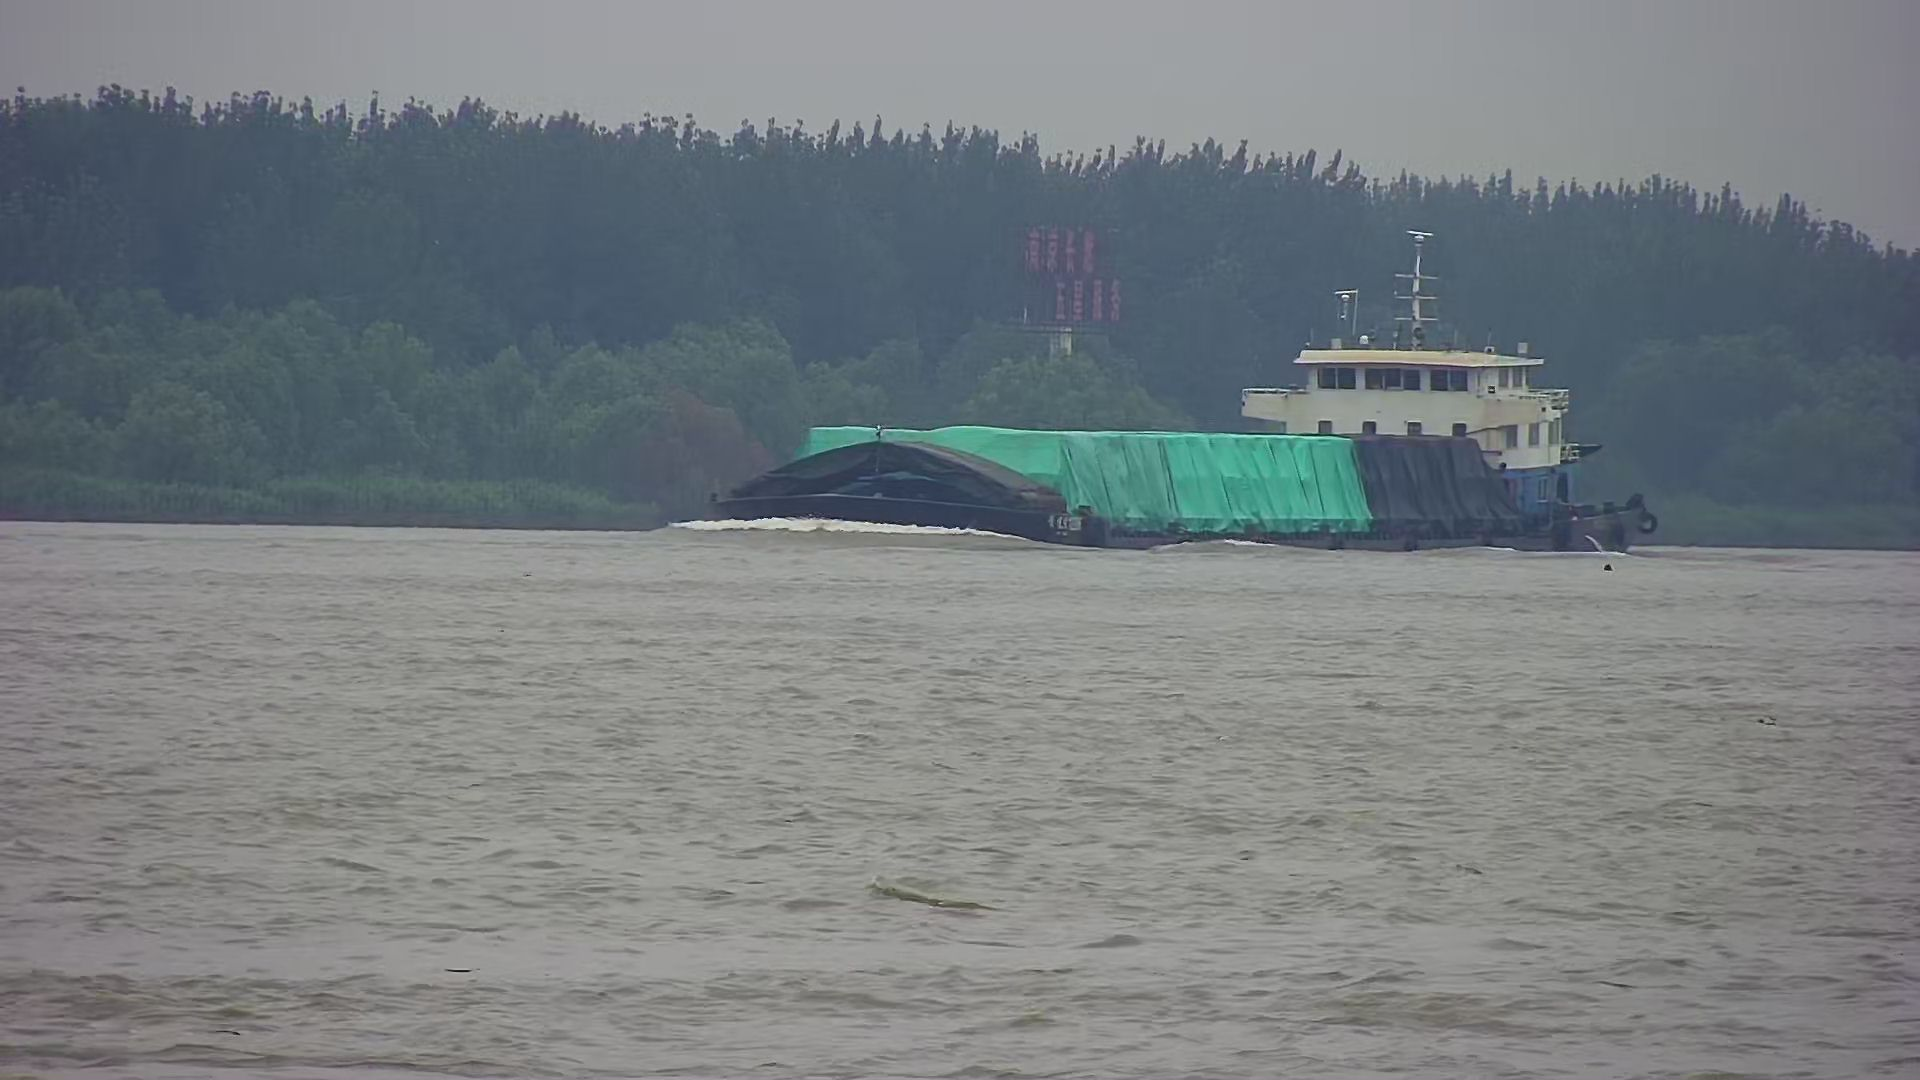ship: (684, 297, 1660, 576)
